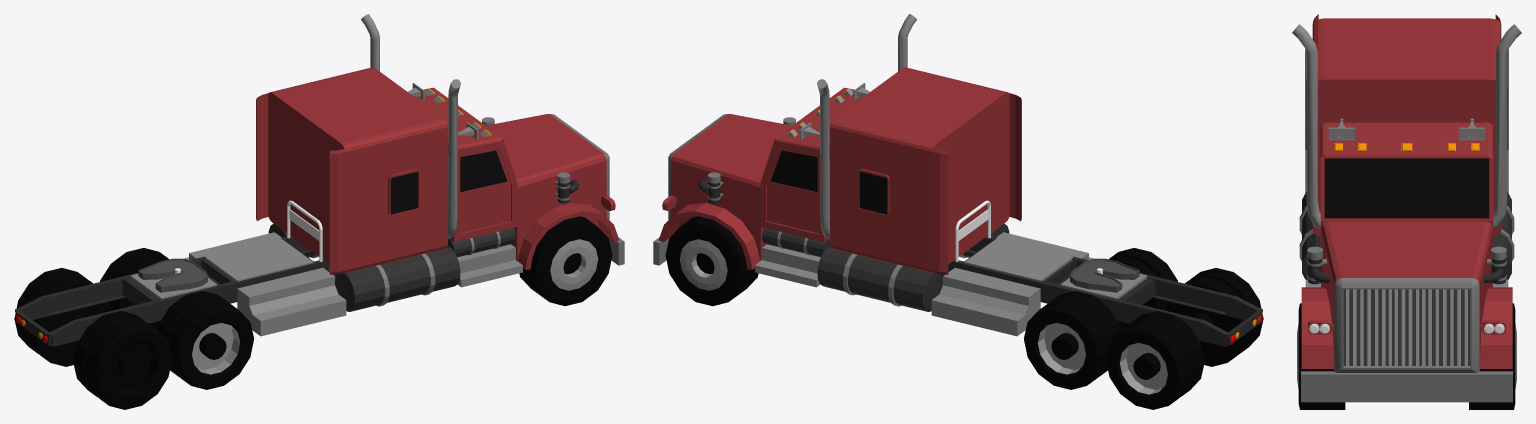
File: tracto-ligero.glb
3 renders of one model, left to right at view 1: azimuth 30°, elevation 25°; view 2: azimuth 150°, elevation 25°; view 3: azimuth 270°, elevation 25°, orthographic. The views are drawn at different scales.
Parts seen in each view (by area): view 1: Object_7, Object_13, Object_16, wheel_rr222, wheel_rr2, Object_12, wheel_fr, windshield, wheel_rl222, Object_10, Object_14, Object_5 (+6 smaller); view 2: Object_7, Object_13, Object_16, wheel_rl22, wheel_rl, Object_12, wheel_fl, windshield, wheel_rr22, Object_10, Object_14, Object_5 (+6 smaller); view 3: Object_7, Object_10, windshield, Object_13, Object_8, Object_9, Object_12, wheel_fr, wheel_fl, Object_16, Object_18, Object_19 (+1 smaller).
Part boxes in pixels (box(x1,y1,x2,y2)): Object_7: box(256, 67, 618, 274); Object_13: box(130, 14, 522, 336); Object_16: box(15, 179, 578, 346); wheel_rr222: box(85, 319, 172, 409); wheel_rr2: box(168, 299, 253, 389); Object_12: box(268, 223, 515, 311); wheel_fr: box(519, 216, 612, 306); windshield: box(390, 150, 507, 214); wheel_rl222: box(26, 276, 112, 366); Object_10: box(310, 114, 624, 306); Object_14: box(138, 258, 207, 292); Object_5: box(550, 239, 598, 290); Object_7: box(659, 67, 1021, 274); Object_13: box(755, 14, 1147, 336); Object_16: box(699, 179, 1262, 346); wheel_rl22: box(1105, 319, 1192, 409); wheel_rl: box(1024, 299, 1109, 389); Object_12: box(762, 223, 1009, 311); wheel_fl: box(665, 216, 758, 306); windshield: box(770, 150, 887, 214); wheel_rr22: box(1165, 276, 1251, 366); Object_10: box(653, 114, 967, 306); Object_14: box(1070, 258, 1139, 292); Object_5: box(679, 239, 727, 290); Object_7: box(1301, 14, 1512, 370); Object_10: box(1299, 206, 1514, 402); windshield: box(1324, 158, 1489, 218); Object_13: box(1292, 24, 1521, 287); Object_8: box(1343, 289, 1470, 365); Object_9: box(1346, 289, 1467, 367); Object_12: box(1302, 191, 1511, 279); wheel_fr: box(1298, 303, 1345, 409); wheel_fl: box(1469, 303, 1515, 409); Object_16: box(1308, 258, 1505, 284); Object_18: box(1334, 143, 1479, 151); Object_19: box(1309, 323, 1504, 333).
Bounding box in the file's own units: 7.3 × 3.21 × 2.16.
